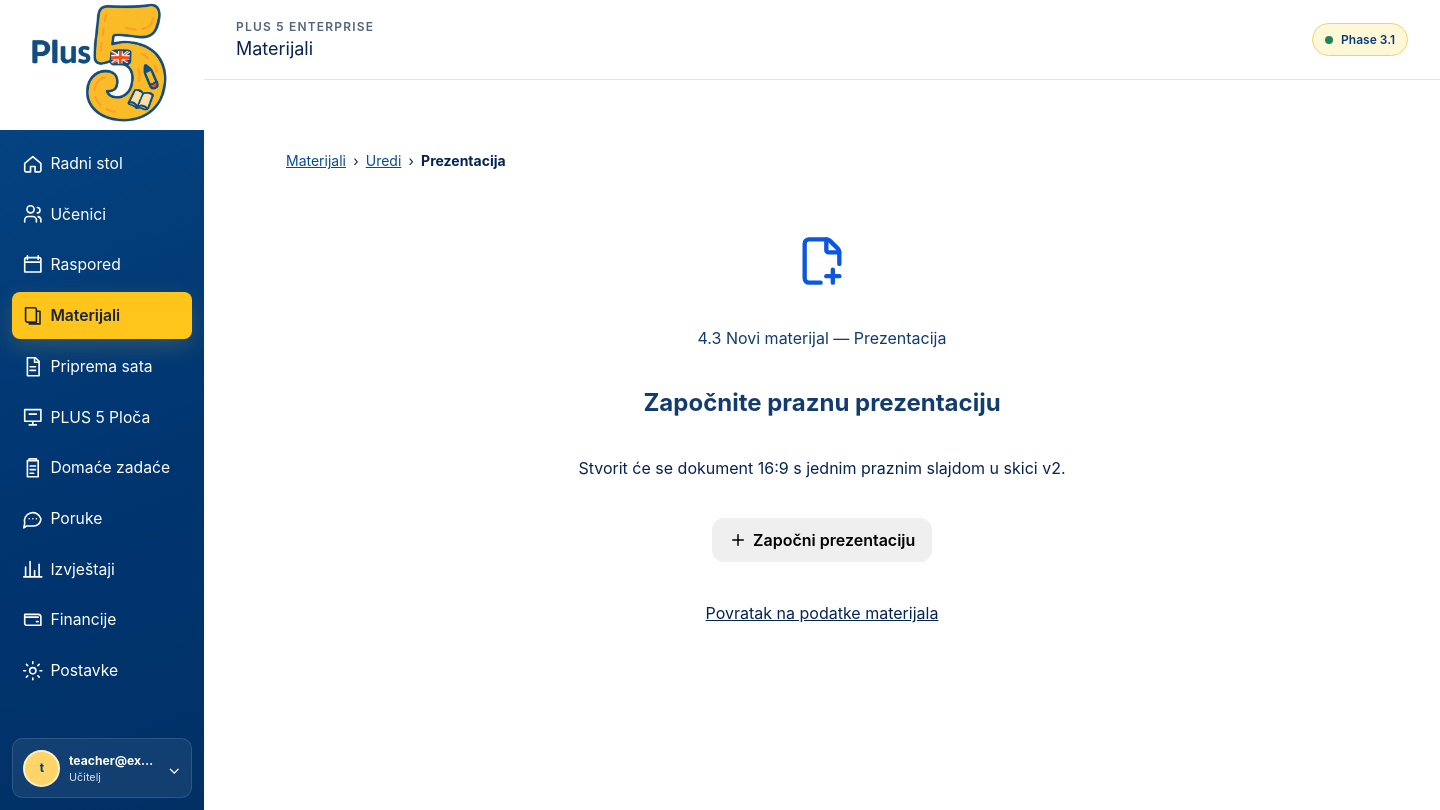
Test: presentation slide editor › starts a version-bound blank document only after explicit teacher action
Click the button "Započni prezentaciju": (822, 540) [712, 518, 932, 562]
(page scrolled)
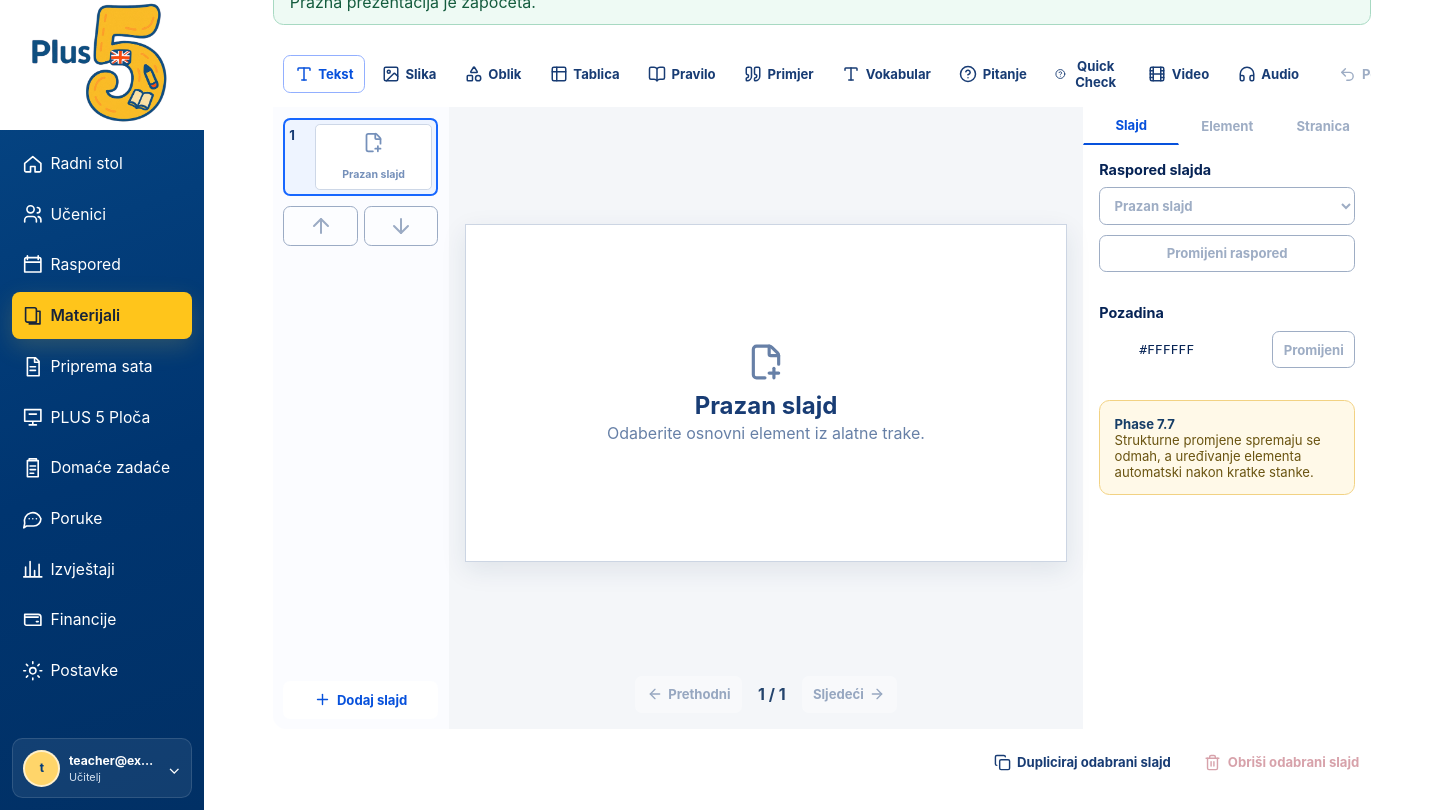
Now the heading "Prazan slajd" is shown, box [695, 391, 837, 420]
